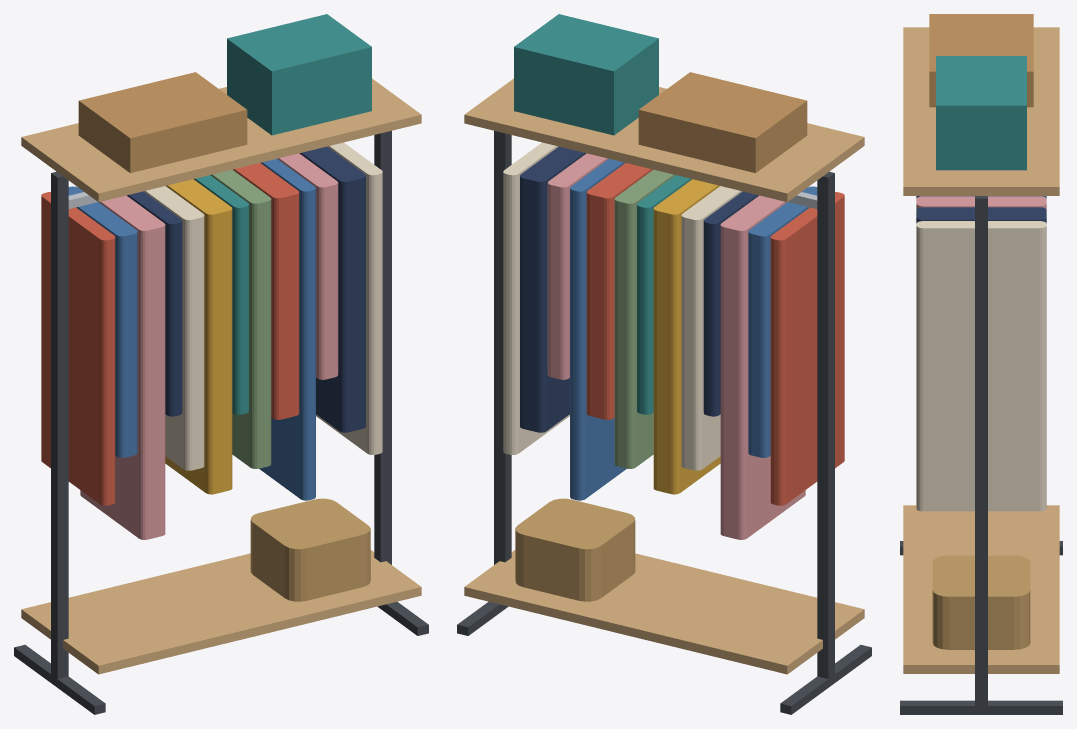
The model's file is clothes_rack.glb.
3 renders of one model, left to right at view 1: azimuth 30°, elevation 25°; view 2: azimuth 150°, elevation 25°; view 3: azimuth 270°, elevation 25°, orthographic.
Parts seen in each view (by area): view 1: clothes_rack_Body; view 2: clothes_rack_Body; view 3: clothes_rack_Body.
Boxes of the visible parts, bbox=[...] form: clothes_rack_Body: bbox=[14, 14, 428, 714]; clothes_rack_Body: bbox=[457, 14, 871, 714]; clothes_rack_Body: bbox=[900, 14, 1062, 714].
Size of the model in its own units: 1.2 by 2 by 0.5.
